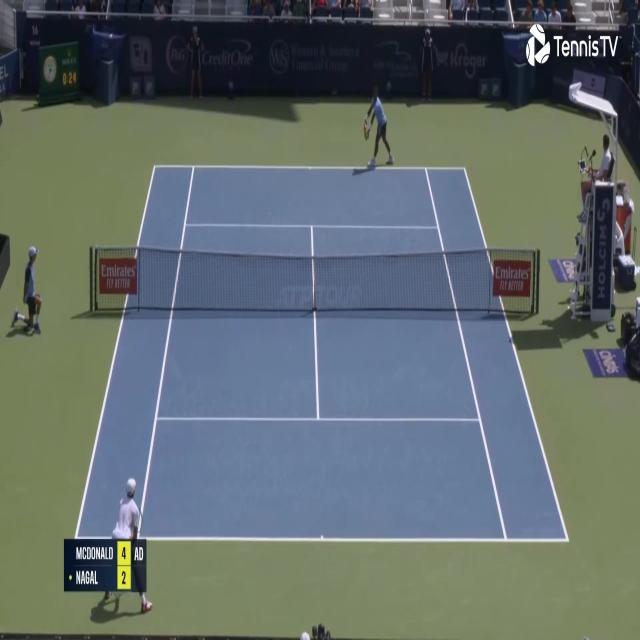tennis-player: (102, 474, 154, 621), (362, 81, 395, 173)
